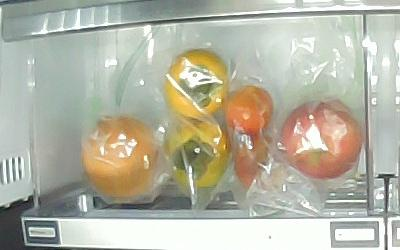apple_vinyl: (280, 100, 364, 181)
grapefruit_vinyl: (82, 117, 158, 198)
persimmon_vinyl: (162, 49, 229, 122), (167, 120, 231, 189)
prune_vinyl: (225, 85, 274, 136), (233, 136, 273, 189)
